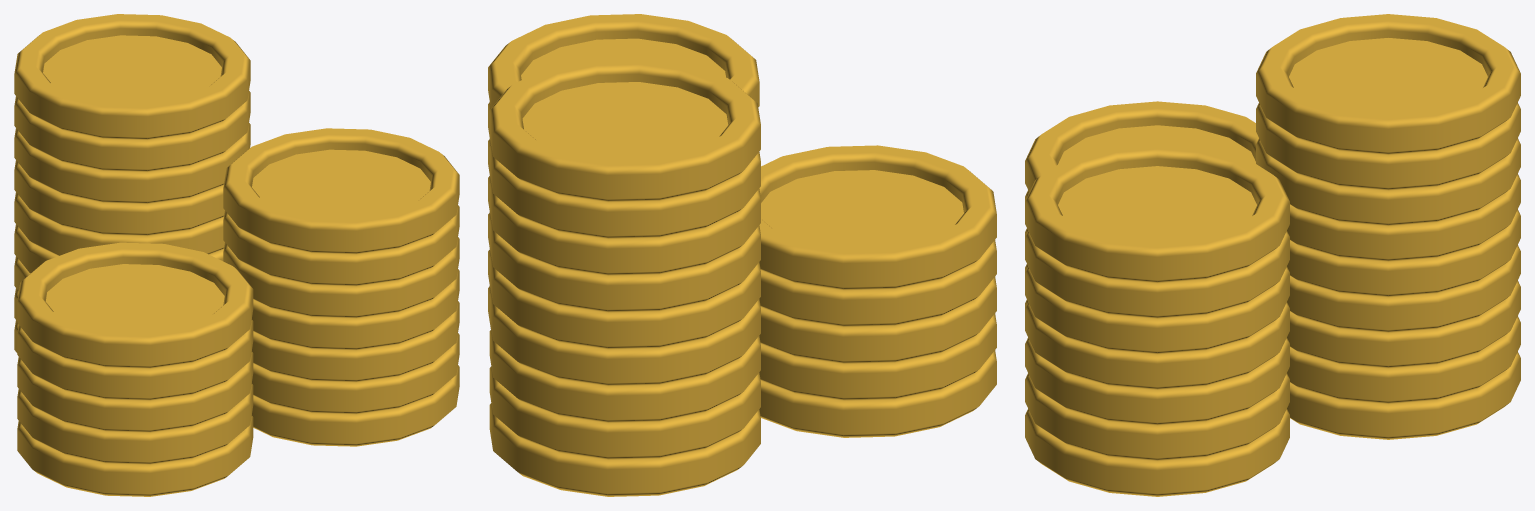
The model's file is coinpile1notex.fbx.
The picture shows the model from 3 angles, left to right: view 1: azimuth 30°, elevation 25°; view 2: azimuth 150°, elevation 25°; view 3: azimuth 270°, elevation 25°; orthographic projection. The views are drawn at different scales.
Parts seen in each view (by area): view 1: coinpile1notex; view 2: coinpile1notex; view 3: coinpile1notex.
Boxes of the visible parts, x1,y1,x2,y2 form: coinpile1notex: (14, 14, 459, 496); coinpile1notex: (488, 14, 996, 496); coinpile1notex: (1025, 14, 1520, 496).
Bounding box in the file's own units: 0.5998 × 0.4001 × 0.5615.
